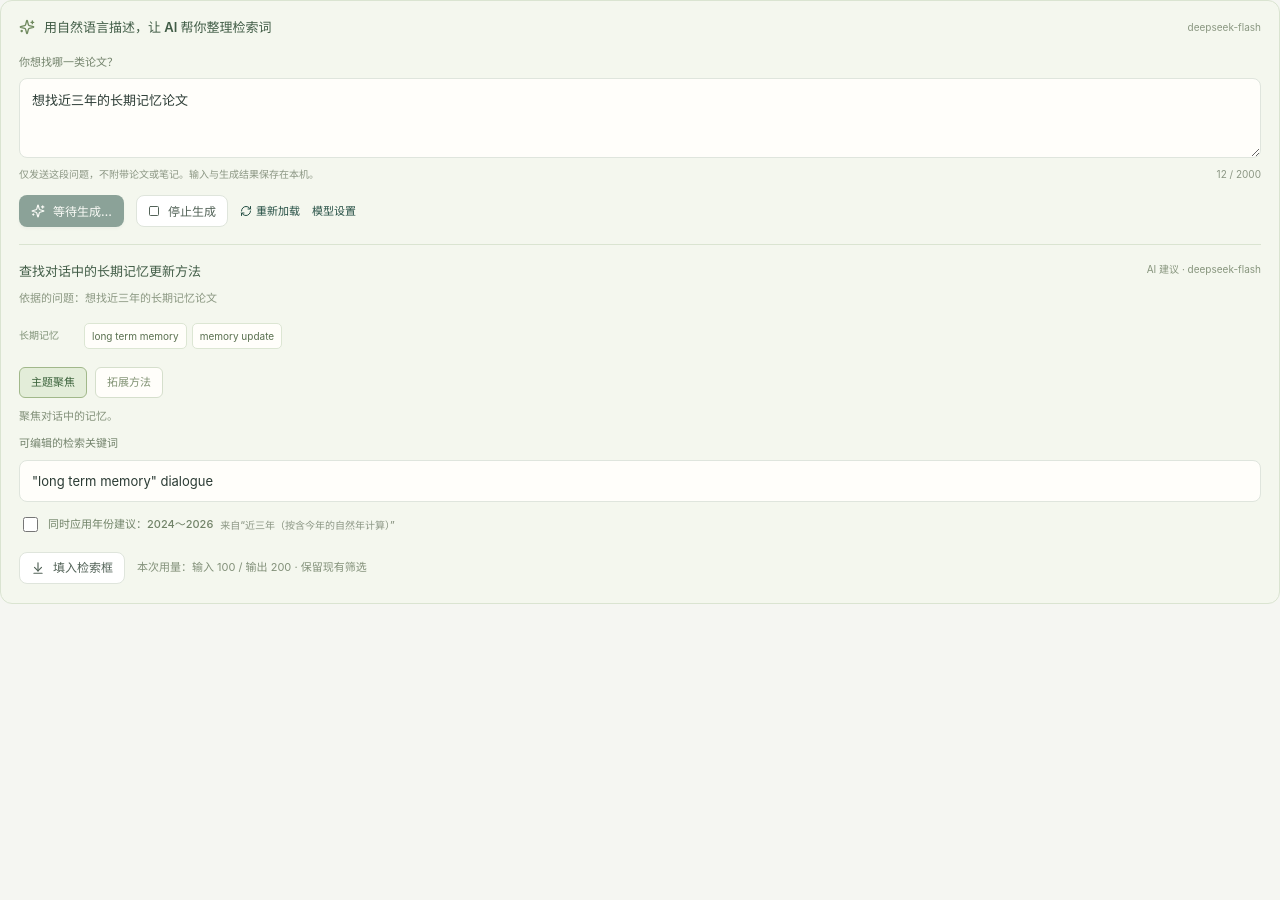
Test case: 停止已排队的生成保留问题与旧建议
The image size is (1280, 900).
Click the button "停止生成" at (182, 211), box [136, 195, 228, 227]
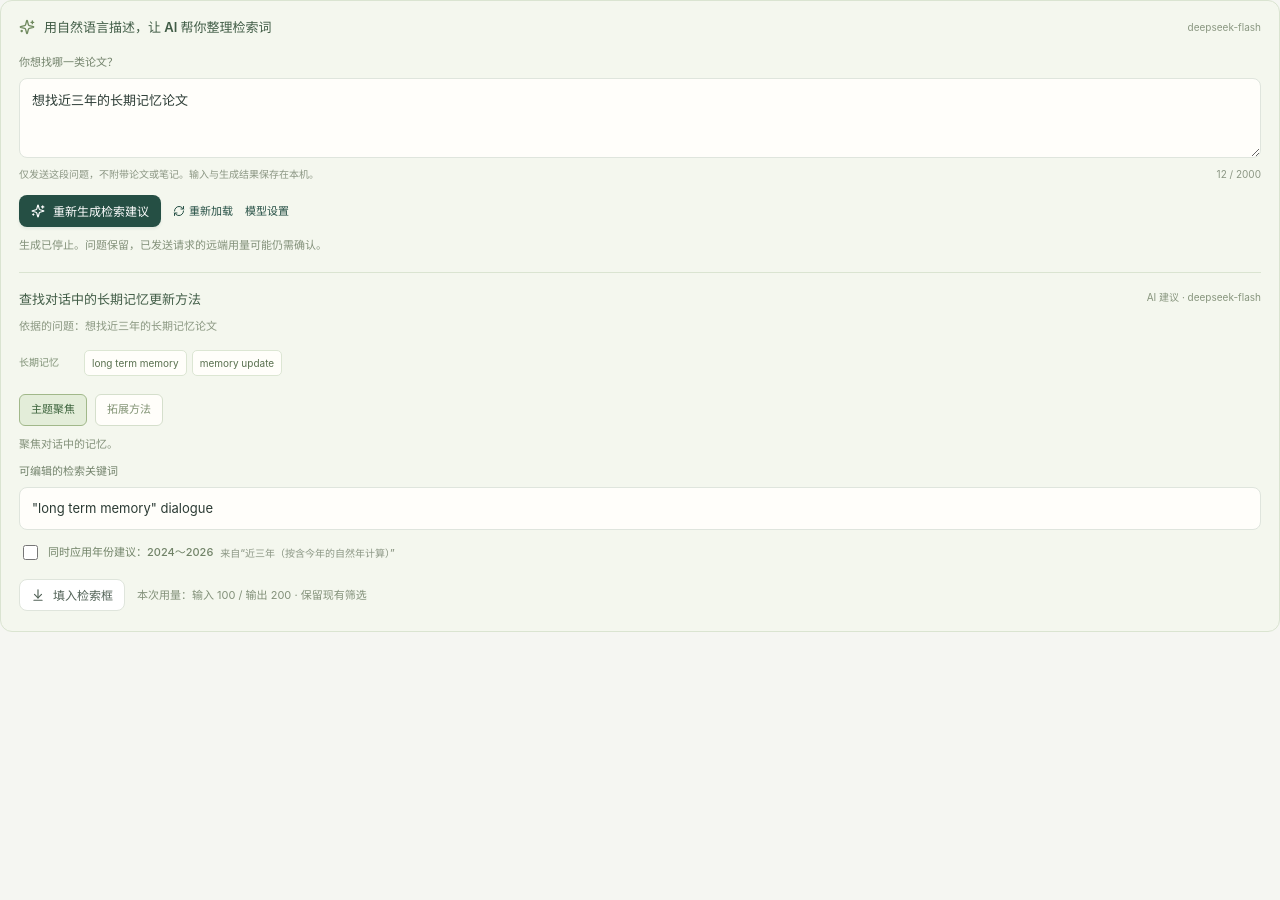
Expected: the element named "AI 检索建议" is shown, [19, 272, 1261, 614]
Expected: the text "生成已停止。问题保留，已发送请求的远端用量可能仍需确认。" is shown, [19, 238, 327, 252]
